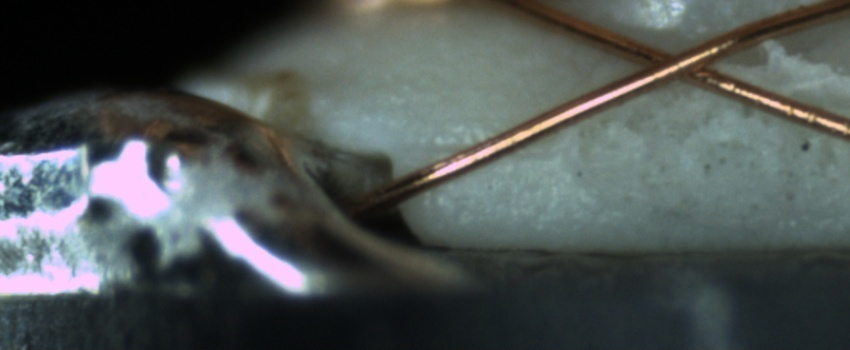CL: (614, 30, 751, 94)
DL: (428, 124, 566, 181)
